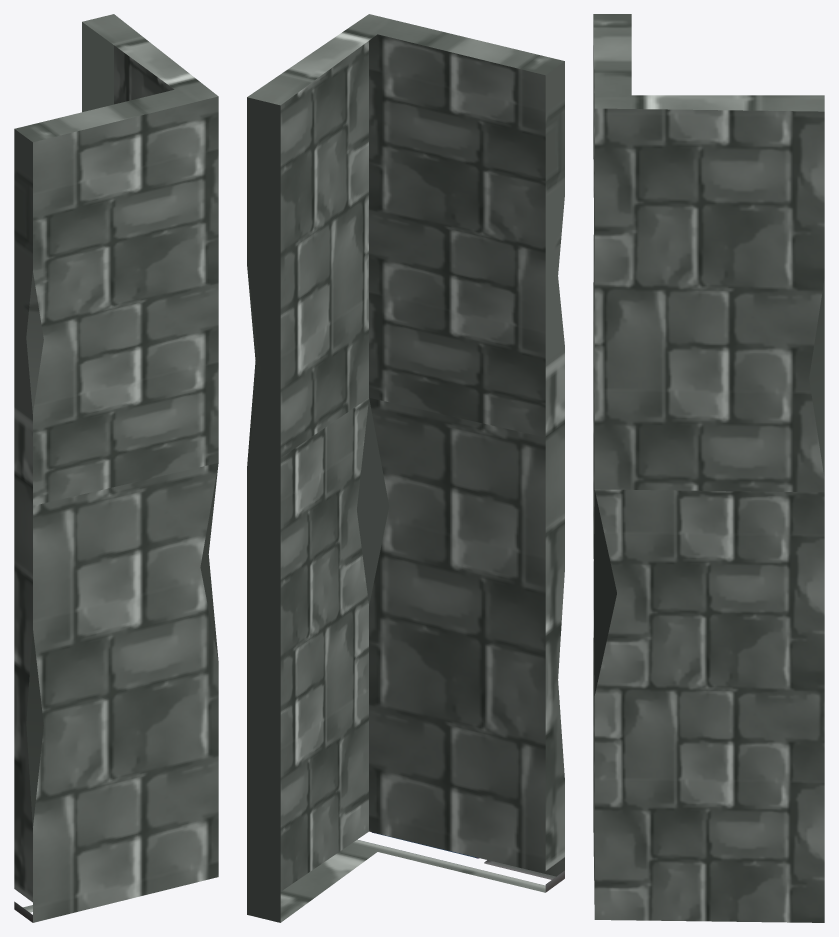
The model's file is SM_Env_Wall_39.fbx.
3 renders of one model, left to right at view 1: azimuth 30°, elevation 25°; view 2: azimuth 150°, elevation 25°; view 3: azimuth 270°, elevation 25°, orthographic. The views are drawn at different scales.
Parts seen in each view (by area): view 1: SM_Env_Wall_39; view 2: SM_Env_Wall_39; view 3: SM_Env_Wall_39.
Boxes of the visible parts, x1,y1,x2,y2 form: SM_Env_Wall_39: [14, 14, 218, 922]; SM_Env_Wall_39: [247, 14, 564, 922]; SM_Env_Wall_39: [593, 14, 824, 922].
Size of the model in its own units: 73.27 by 284 by 73.36.
Materials: 1 (1 with a texture image).
